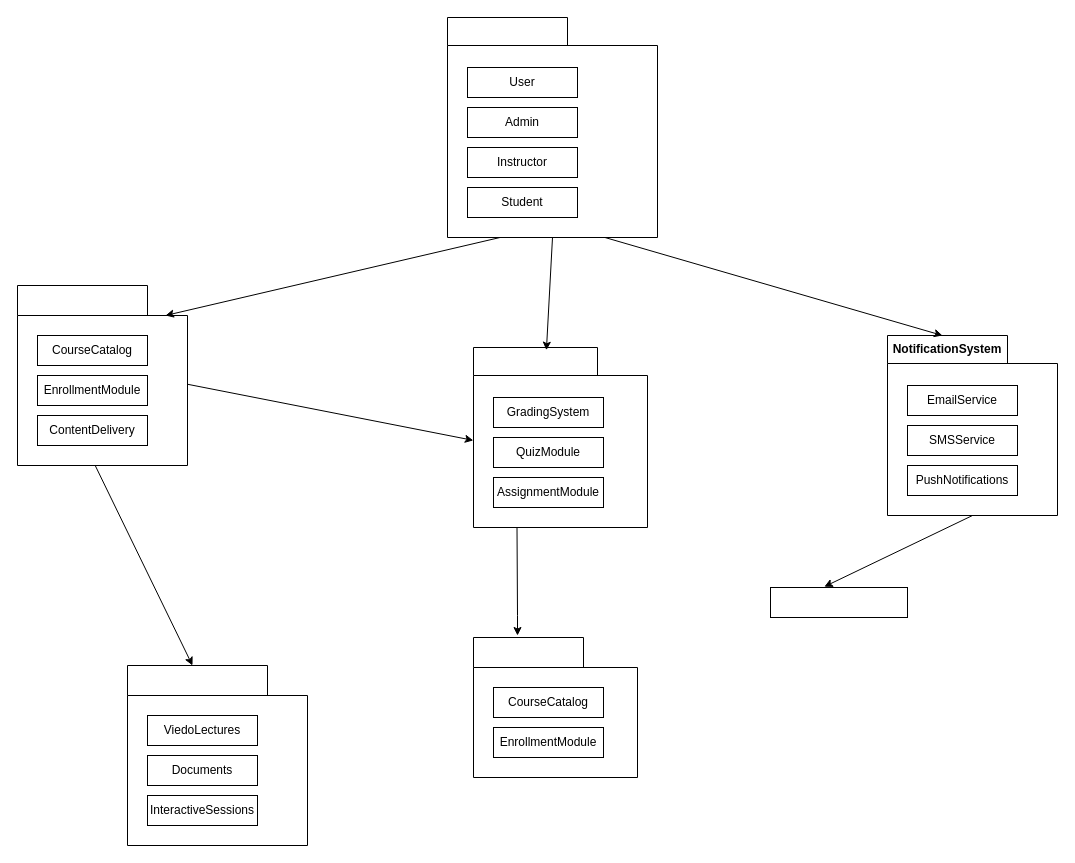
Some shapes in this 1075 by 863 pixel diagram are drawn without their labels. Here are the shapes that lost their labels. From the top down, the box of each, then its label:
(446, 16, 658, 238): User Managment
(16, 284, 188, 466): Course Managment
(472, 346, 648, 528): Assignment System
(770, 586, 908, 618): CommunicatioModule
(472, 636, 638, 778): ReportingSystem
(126, 664, 308, 846): Content Managment
